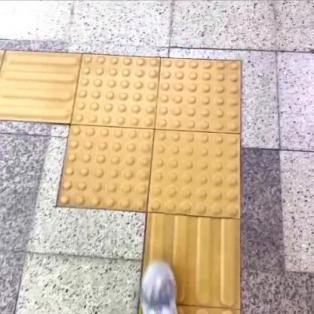Podoctatil: (37, 26, 268, 256)
